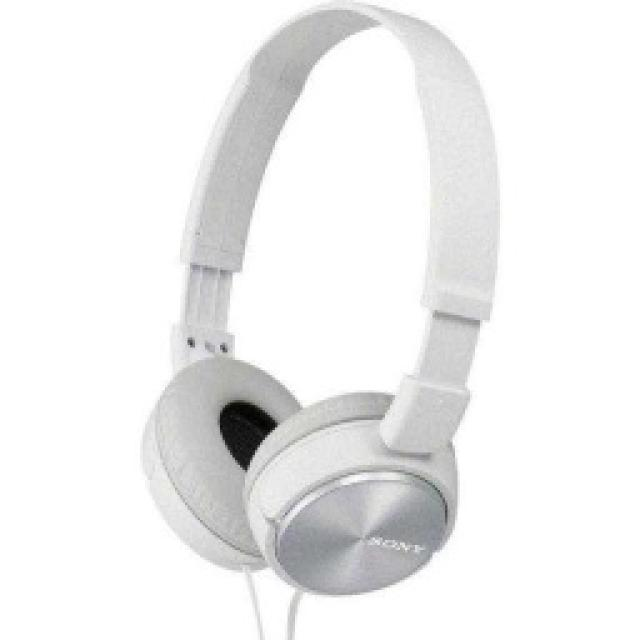headphones: (138, 0, 500, 595)
